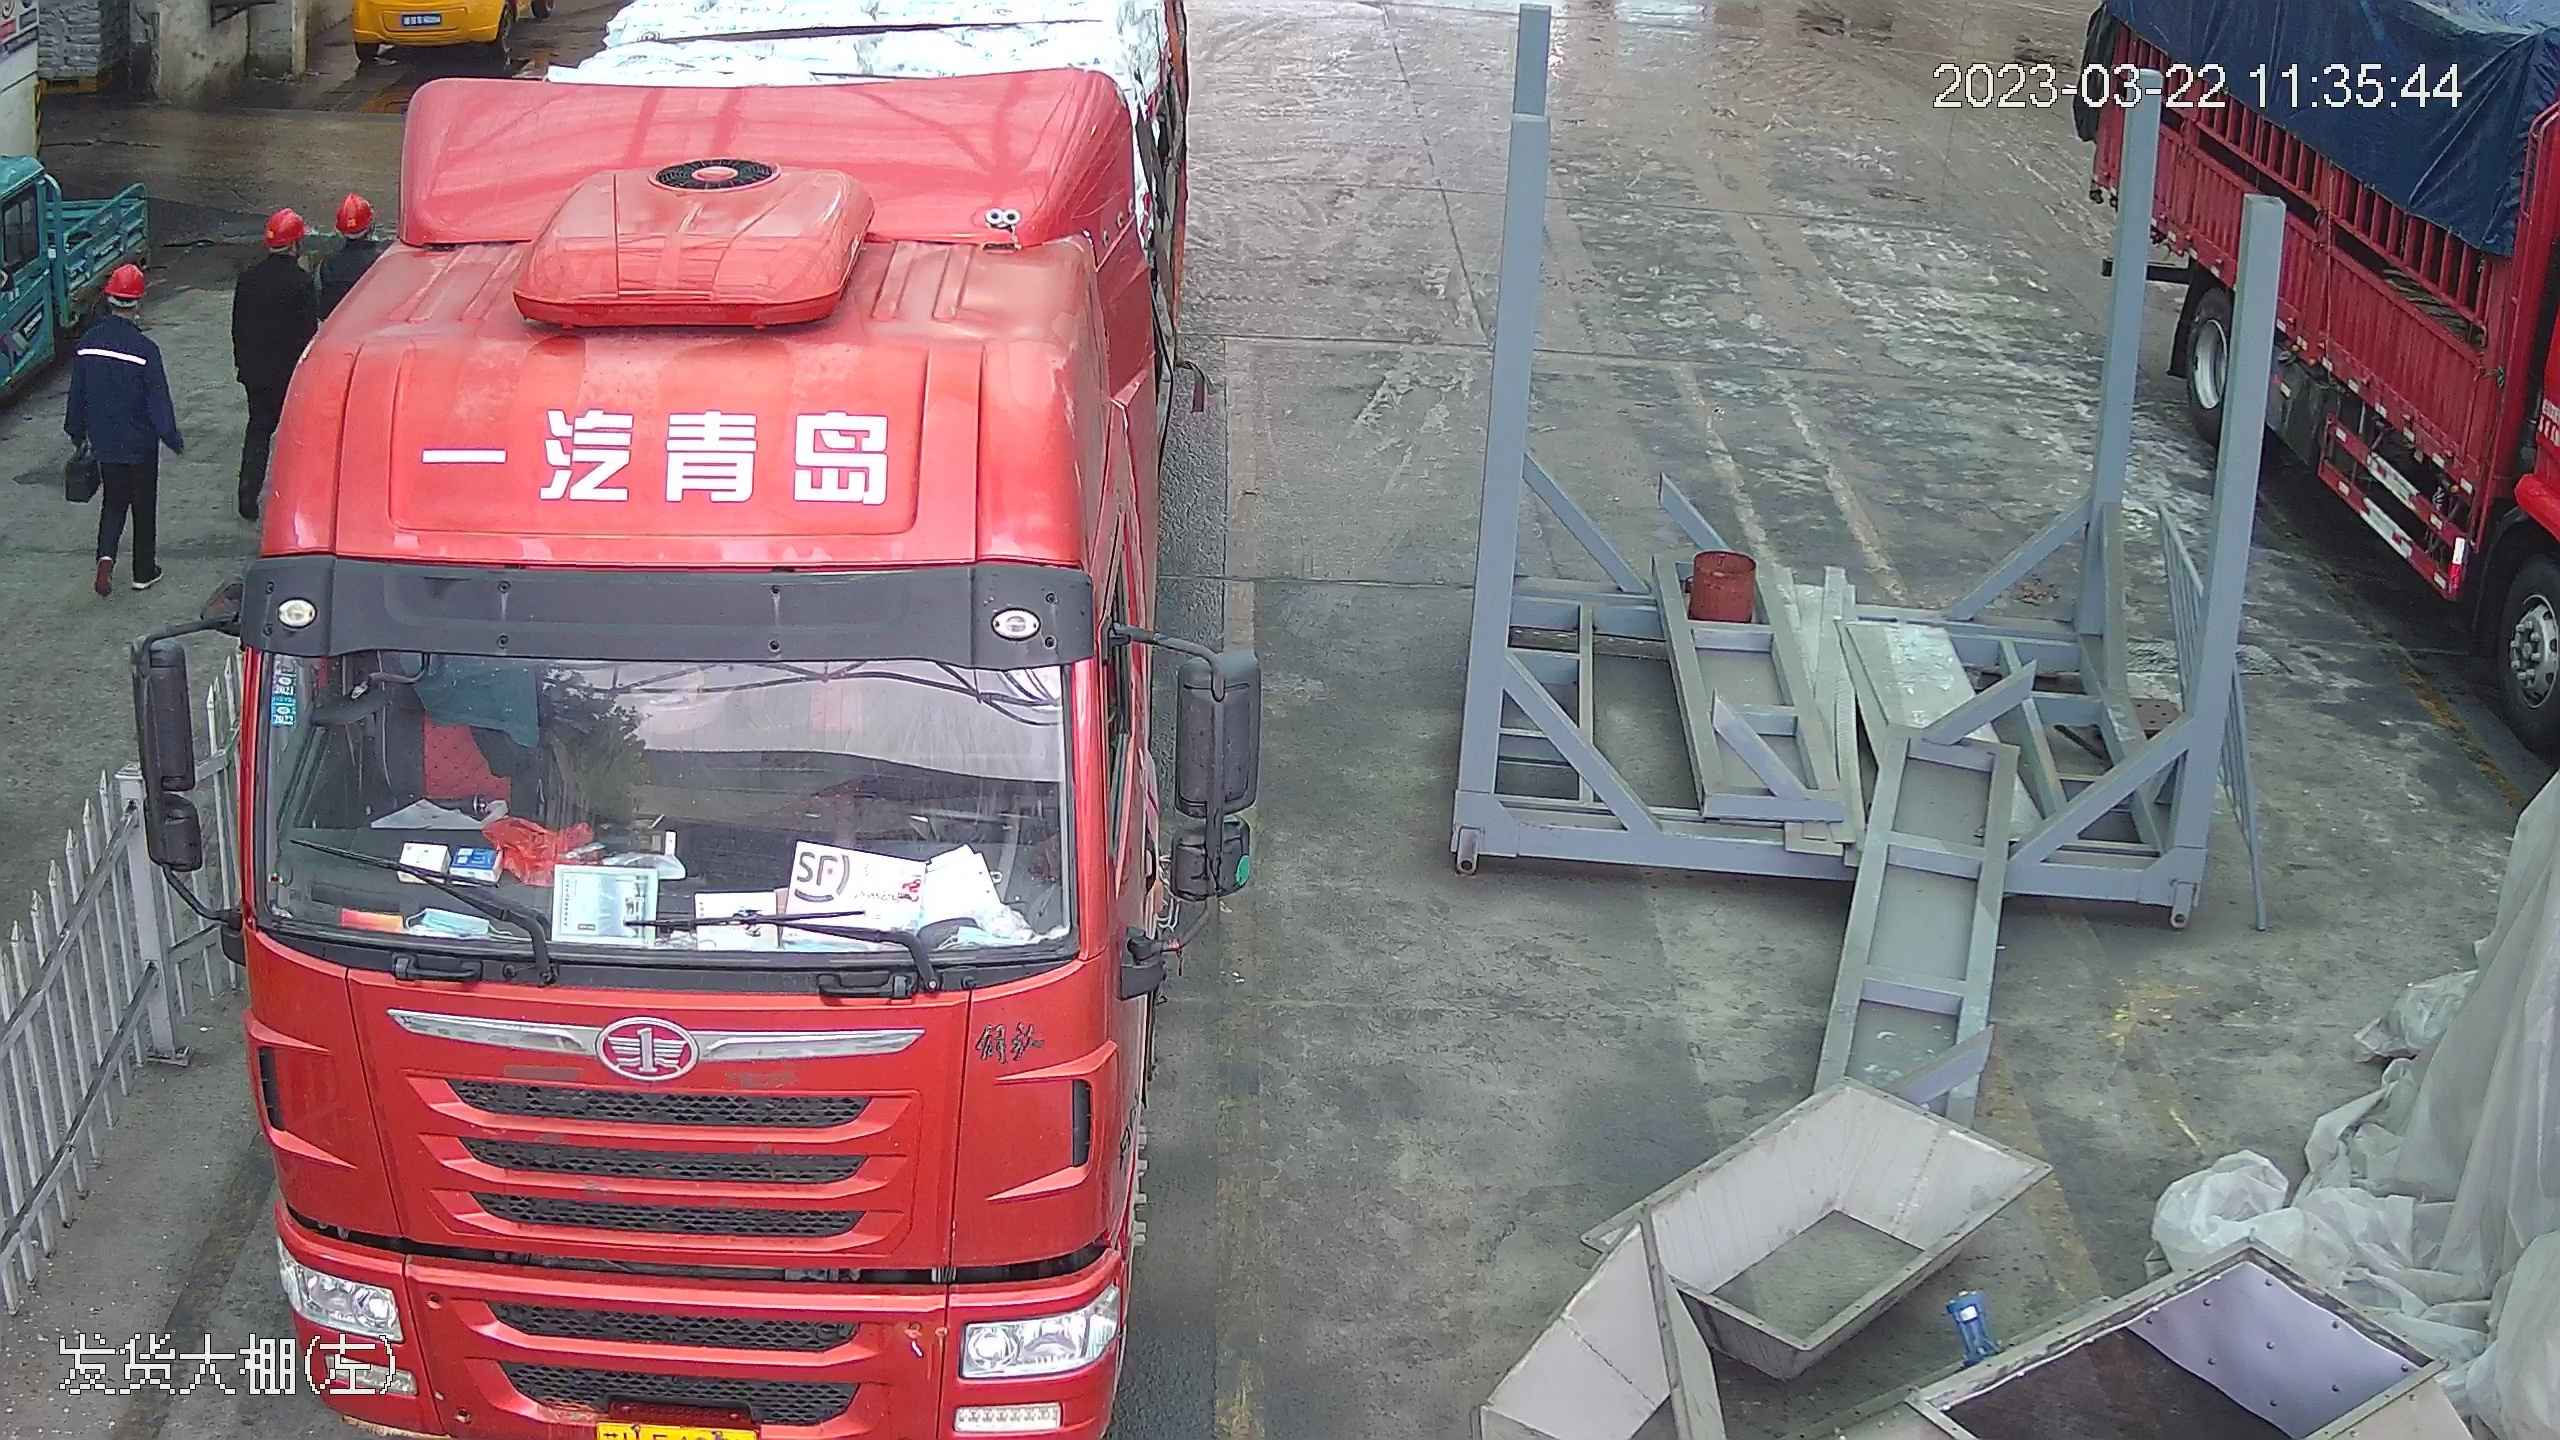head: (74, 259, 165, 366), (236, 207, 320, 306), (317, 192, 385, 281)
helmet: (100, 259, 148, 298), (263, 206, 310, 242), (334, 191, 377, 227)
people: (54, 257, 188, 603), (224, 204, 326, 540)
truck: (196, 19, 1278, 1440), (2085, 1, 2558, 766)
